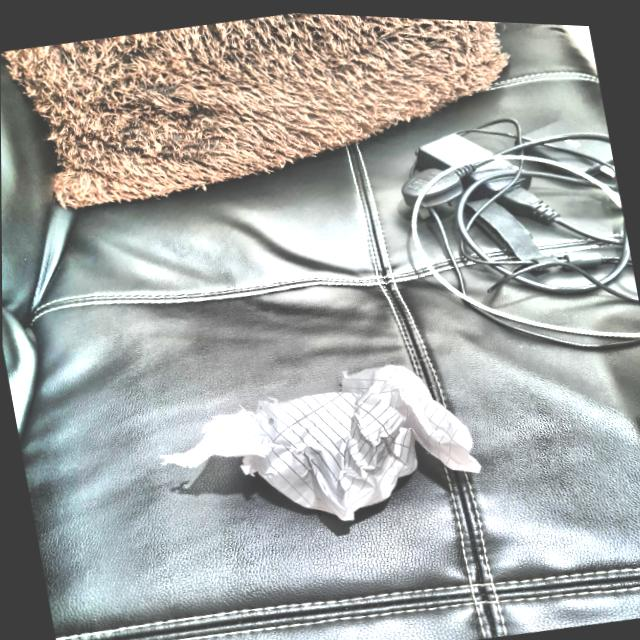Paper: (145, 341, 496, 552)
